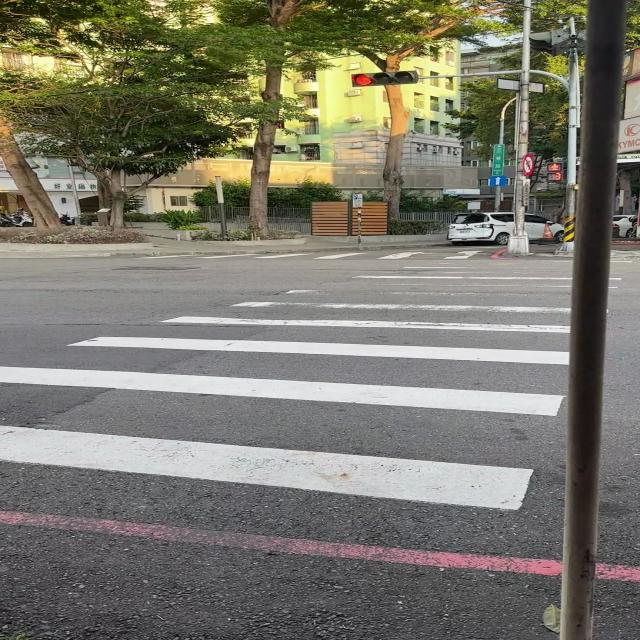car: (448, 212, 512, 245), (523, 214, 565, 240)
crosswalk: (0, 263, 574, 512), (129, 250, 488, 259)
